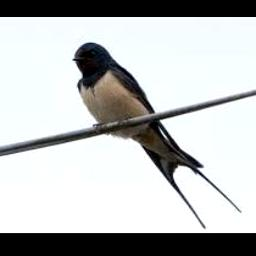Swallow: (72, 42, 241, 228)
